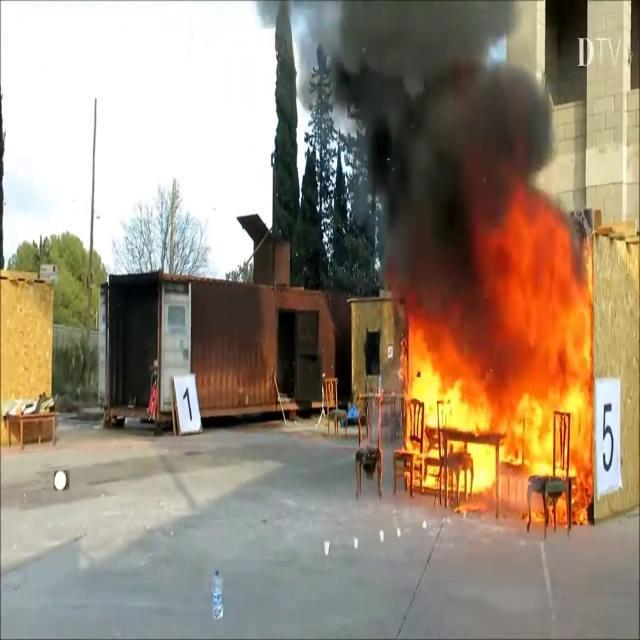Fire: (400, 203, 594, 512)
Smoke: (326, 0, 562, 297)
